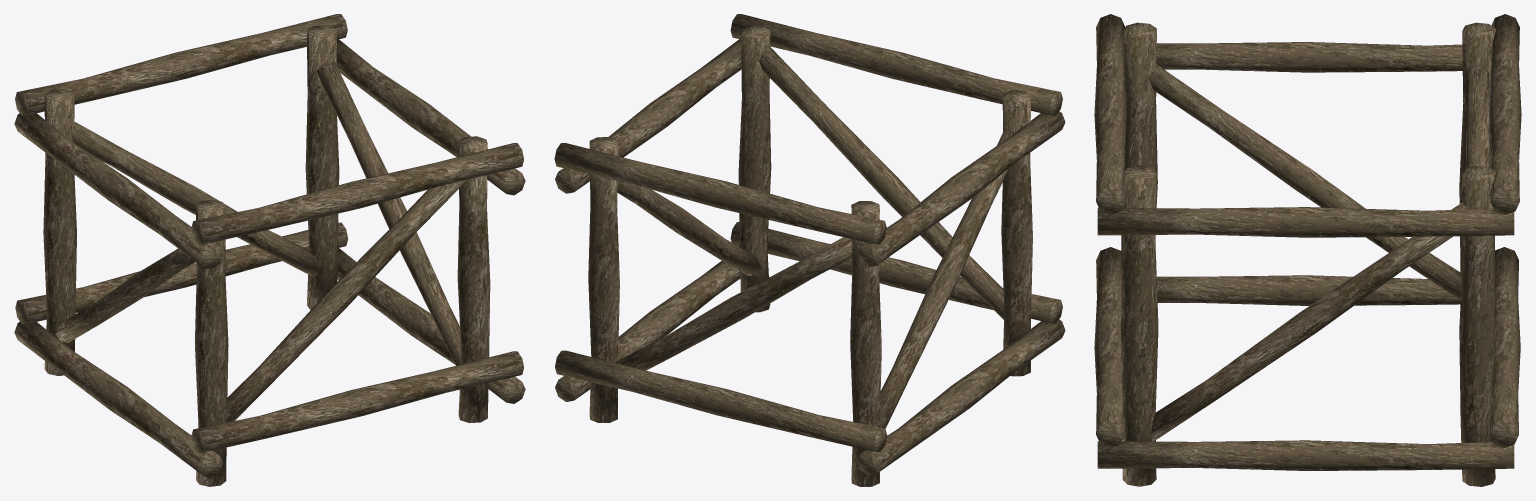
File: Stage_Obj019.fbx
The picture shows the model from 3 angles, left to right: view 1: azimuth 30°, elevation 25°; view 2: azimuth 150°, elevation 25°; view 3: azimuth 270°, elevation 25°; orthographic projection. The views are drawn at different scales.
Visible parts, largest first — view 1: polySurface166, polySurface172, polySurface173, polySurface178, polySurface167, polySurface170, polySurface169, polySurface176, polySurface177, polySurface168, polySurface179, polySurface180 (+4 smaller); view 2: polySurface171, polySurface173, polySurface172, polySurface170, polySurface178, polySurface168, polySurface167, polySurface177, polySurface176, polySurface169, polySurface181, polySurface180 (+4 smaller); view 3: polySurface174, polySurface175, polySurface167, polySurface170, polySurface176, polySurface179, polySurface181, polySurface177, polySurface172, polySurface173, polySurface166, polySurface171 (+3 smaller).
Boxes of the visible parts, x1=… form: polySurface166: x1=191, y1=351, x2=523, y2=452; polySurface172: x1=191, y1=143, x2=523, y2=244; polySurface173: x1=15, y1=14, x2=347, y2=115; polySurface178: x1=226, y1=179, x2=466, y2=422; polySurface167: x1=457, y1=136, x2=490, y2=422; polySurface170: x1=305, y1=25, x2=339, y2=309; polySurface169: x1=43, y1=89, x2=76, y2=375; polySurface176: x1=14, y1=113, x2=223, y2=269; polySurface177: x1=14, y1=322, x2=223, y2=477; polySurface168: x1=195, y1=199, x2=228, y2=486; polySurface179: x1=317, y1=61, x2=461, y2=365; polySurface180: x1=71, y1=121, x2=319, y2=275; polySurface171: x1=555, y1=350, x2=887, y2=451; polySurface173: x1=554, y1=143, x2=886, y2=244; polySurface172: x1=730, y1=14, x2=1062, y2=115; polySurface170: x1=588, y1=137, x2=619, y2=422; polySurface178: x1=758, y1=46, x2=1007, y2=319; polySurface168: x1=1001, y1=90, x2=1032, y2=376; polySurface167: x1=738, y1=26, x2=771, y2=312; polySurface177: x1=857, y1=319, x2=1065, y2=475; polySurface176: x1=857, y1=111, x2=1065, y2=267; polySurface169: x1=850, y1=201, x2=881, y2=486; polySurface181: x1=880, y1=131, x2=1012, y2=428; polySurface180: x1=615, y1=237, x2=852, y2=370; polySurface174: x1=1097, y1=440, x2=1514, y2=470; polySurface175: x1=1097, y1=207, x2=1514, y2=237; polySurface167: x1=1120, y1=165, x2=1158, y2=486; polySurface170: x1=1459, y1=166, x2=1496, y2=486; polySurface176: x1=1156, y1=42, x2=1462, y2=72; polySurface179: x1=1151, y1=202, x2=1466, y2=441; polySurface181: x1=1148, y1=64, x2=1461, y2=299; polySurface177: x1=1156, y1=275, x2=1460, y2=305; polySurface172: x1=1094, y1=14, x2=1126, y2=214; polySurface173: x1=1489, y1=14, x2=1521, y2=214; polySurface166: x1=1094, y1=247, x2=1125, y2=447; polySurface171: x1=1489, y1=247, x2=1520, y2=447.
Bounding box in the file's own units: 375 × 302 × 378.
Materials: 1 (1 with a texture image).
